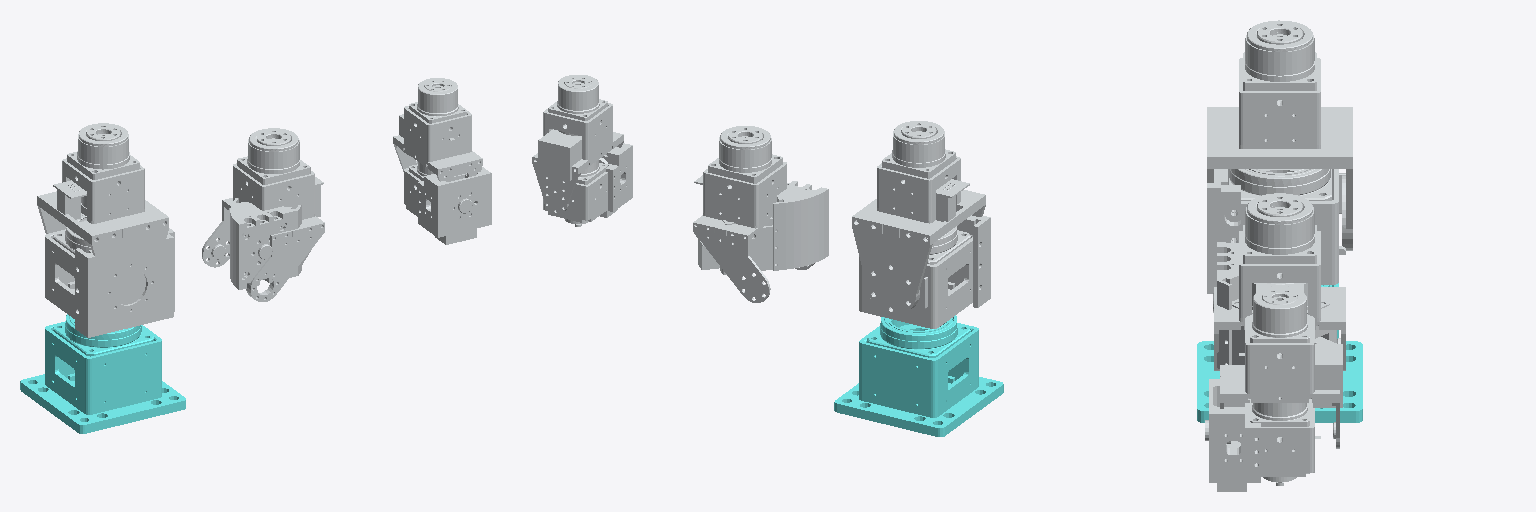
URDF robot description (bluearm_urdf_3):
<?xml version="1.0" encoding="utf-8"?>
<!-- This URDF was automatically created by SolidWorks to URDF Exporter! Originally created by [author] ([email redacted]) 
     Commit Version: 1.5.1-0-g916b5db  Build Version: 1.5.7152.31018
     For more information, please see http://wiki.ros.org/sw_urdf_exporter -->
<robot
  name="bluearm_urdf_3">
  <link
    name="base_link">
    <inertial>
      <origin
        xyz="-1.2721E-09 -2.221E-09 0.029334"
        rpy="0 0 0" />
      <mass
        value="0.80823" />
      <inertia
        ixx="0.00092021"
        ixy="2.0871E-10"
        ixz="-1.3863E-11"
        iyy="0.00088788"
        iyz="-1.2165E-11"
        izz="0.001593" />
    </inertial>
    <visual>
      <origin
        xyz="0 0 0"
        rpy="0 0 0" />
      <geometry>
        <mesh
          filename="package://bluearm_urdf_3/meshes/base_link.STL" />
      </geometry>
      <material
        name="">
        <color
          rgba="0.50196 1 1 1" />
      </material>
    </visual>
    <collision>
      <origin
        xyz="0 0 0"
        rpy="0 0 0" />
      <geometry>
        <mesh
          filename="package://bluearm_urdf_3/meshes/base_link.STL" />
      </geometry>
    </collision>
  </link>
  <link
    name="link_1">
    <inertial>
      <origin
        xyz="0.0013724819847024 0.00105856120896306 -0.0137822751691176"
        rpy="0 0 0" />
      <mass
        value="0.842297822851205" />
      <inertia
        ixx="0.00076340953424039"
        ixy="-3.51636077803791E-06"
        ixz="-3.95975667675045E-06"
        iyy="0.00121976980344189"
        iyz="1.36722548032234E-06"
        izz="0.00102227900722713" />
    </inertial>
    <visual>
      <origin
        xyz="0 0 0"
        rpy="0 0 0" />
      <geometry>
        <mesh
          filename="package://bluearm_urdf_3/meshes/link_1.STL" />
      </geometry>
      <material
        name="">
        <color
          rgba="0.898039215686275 0.917647058823529 0.929411764705882 1" />
      </material>
    </visual>
    <collision>
      <origin
        xyz="0 0 0"
        rpy="0 0 0" />
      <geometry>
        <mesh
          filename="package://bluearm_urdf_3/meshes/link_1.STL" />
      </geometry>
    </collision>
  </link>
  <joint
    name="joint_1"
    type="revolute">
    <origin
      xyz="0 0 0.14"
      rpy="0 0 0" />
    <parent
      link="base_link" />
    <child
      link="link_1" />
    <axis
      xyz="0 0 1" />
    <limit
      lower="0"
      upper="0"
      effort="0"
      velocity="0" />
  </joint>
  <link
    name="link_2">
    <inertial>
      <origin
        xyz="0.0769223200130146 8.08732473817575E-05 -0.00042635625580266"
        rpy="0 0 0" />
      <mass
        value="0.745981126447571" />
      <inertia
        ixx="0.000520841610219072"
        ixy="-4.81334906961203E-06"
        ixz="-1.95626090273518E-06"
        iyy="0.00042477641414559"
        iyz="-5.52016092200821E-06"
        izz="0.000384489660316636" />
    </inertial>
    <visual>
      <origin
        xyz="0 0 0"
        rpy="0 0 0" />
      <geometry>
        <mesh
          filename="package://bluearm_urdf_3/meshes/link_2.STL" />
      </geometry>
      <material
        name="">
        <color
          rgba="0.898039215686275 0.917647058823529 0.929411764705882 1" />
      </material>
    </visual>
    <collision>
      <origin
        xyz="0 0 0"
        rpy="0 0 0" />
      <geometry>
        <mesh
          filename="package://bluearm_urdf_3/meshes/link_2.STL" />
      </geometry>
    </collision>
  </link>
  <joint
    name="joint_2"
    type="revolute">
    <origin
      xyz="0 0 0"
      rpy="0 0 0" />
    <parent
      link="link_1" />
    <child
      link="link_2" />
    <axis
      xyz="0 -1 0" />
    <limit
      lower="0"
      upper="0"
      effort="0"
      velocity="0" />
  </joint>
  <link
    name="link_3">
    <inertial>
      <origin
        xyz="-0.0114331813251084 -0.000457582008541844 -0.0216566472730735"
        rpy="0 0 0" />
      <mass
        value="0.804459827803754" />
      <inertia
        ixx="0.000394716139862203"
        ixy="1.20034101751916E-06"
        ixz="-1.15155911130661E-05"
        iyy="0.000369176277421544"
        iyz="-1.52204783481967E-06"
        izz="0.000335294348916886" />
    </inertial>
    <visual>
      <origin
        xyz="0 0 0"
        rpy="0 0 0" />
      <geometry>
        <mesh
          filename="package://bluearm_urdf_3/meshes/link_3.STL" />
      </geometry>
      <material
        name="">
        <color
          rgba="0.898039215686275 0.917647058823529 0.929411764705882 1" />
      </material>
    </visual>
    <collision>
      <origin
        xyz="0 0 0"
        rpy="0 0 0" />
      <geometry>
        <mesh
          filename="package://bluearm_urdf_3/meshes/link_3.STL" />
      </geometry>
    </collision>
  </link>
  <joint
    name="joint_3"
    type="revolute">
    <origin
      xyz="0.19 0 0"
      rpy="0 0 0" />
    <parent
      link="link_2" />
    <child
      link="link_3" />
    <axis
      xyz="-1 0 0" />
    <limit
      lower="0"
      upper="0"
      effort="0"
      velocity="0" />
  </joint>
  <link
    name="link_4">
    <inertial>
      <origin
        xyz="0.0769734778463645 0.000934629244450365 0.0356212264841299"
        rpy="0 0 0" />
      <mass
        value="0.566230423072006" />
      <inertia
        ixx="0.000323477443788715"
        ixy="1.29185501358438E-06"
        ixz="-1.18136439524261E-05"
        iyy="0.000225583796578213"
        iyz="-6.10063744425435E-06"
        izz="0.000221671905453137" />
    </inertial>
    <visual>
      <origin
        xyz="0 0 0"
        rpy="0 0 0" />
      <geometry>
        <mesh
          filename="package://bluearm_urdf_3/meshes/link_4.STL" />
      </geometry>
      <material
        name="">
        <color
          rgba="0.898039215686275 0.917647058823529 0.929411764705882 1" />
      </material>
    </visual>
    <collision>
      <origin
        xyz="0 0 0"
        rpy="0 0 0" />
      <geometry>
        <mesh
          filename="package://bluearm_urdf_3/meshes/link_4.STL" />
      </geometry>
    </collision>
  </link>
  <joint
    name="joint_4"
    type="revolute">
    <origin
      xyz="0 0 -0.0365"
      rpy="0 0 0" />
    <parent
      link="link_3" />
    <child
      link="link_4" />
    <axis
      xyz="0 1 0" />
    <limit
      lower="0"
      upper="0"
      effort="0"
      velocity="0" />
  </joint>
  <link
    name="link_5">
    <inertial>
      <origin
        xyz="-0.0148074583751761 0.00213542128687548 2.18169794868883E-07"
        rpy="0 0 0" />
      <mass
        value="0.462017126683371" />
      <inertia
        ixx="0.000177893444569323"
        ixy="1.32666352831544E-05"
        ixz="-3.05686863907704E-07"
        iyy="0.000225592333679048"
        iyz="1.12464809894113E-09"
        izz="0.000163107825386613" />
    </inertial>
    <visual>
      <origin
        xyz="0 0 0"
        rpy="0 0 0" />
      <geometry>
        <mesh
          filename="package://bluearm_urdf_3/meshes/link_5.STL" />
      </geometry>
      <material
        name="">
        <color
          rgba="0.898039215686275 0.917647058823529 0.929411764705882 1" />
      </material>
    </visual>
    <collision>
      <origin
        xyz="0 0 0"
        rpy="0 0 0" />
      <geometry>
        <mesh
          filename="package://bluearm_urdf_3/meshes/link_5.STL" />
      </geometry>
    </collision>
  </link>
  <joint
    name="joint_5"
    type="revolute">
    <origin
      xyz="0.183 0 0.0365"
      rpy="0 0 0" />
    <parent
      link="link_4" />
    <child
      link="link_5" />
    <axis
      xyz="-1 0 0" />
    <limit
      lower="0"
      upper="0"
      effort="0"
      velocity="0" />
  </joint>
  <link
    name="link_6">
    <inertial>
      <origin
        xyz="0.057311 -0.0040732 2.7725E-07"
        rpy="0 0 0" />
      <mass
        value="0.41677" />
      <inertia
        ixx="0.00018847"
        ixy="-1.4409E-05"
        ixz="-1.3757E-09"
        iyy="0.0001068"
        iyz="-3.057E-07"
        izz="0.00014801" />
    </inertial>
    <visual>
      <origin
        xyz="0 0 0"
        rpy="0 0 0" />
      <geometry>
        <mesh
          filename="package://bluearm_urdf_3/meshes/link_6.STL" />
      </geometry>
      <material
        name="">
        <color
          rgba="0.89804 0.91765 0.92941 1" />
      </material>
    </visual>
    <collision>
      <origin
        xyz="0 0 0"
        rpy="0 0 0" />
      <geometry>
        <mesh
          filename="package://bluearm_urdf_3/meshes/link_6.STL" />
      </geometry>
    </collision>
  </link>
  <joint
    name="joint_6"
    type="revolute">
    <origin
      xyz="0 0 0"
      rpy="0 0 0" />
    <parent
      link="link_5" />
    <child
      link="link_6" />
    <axis
      xyz="0 1 0" />
    <limit
      lower="0"
      upper="0"
      effort="0"
      velocity="0" />
  </joint>
  <link
    name="link_7">
    <inertial>
      <origin
        xyz="-0.35508 -0.0025947 -0.026841"
        rpy="0 0 0" />
      <mass
        value="6.3956" />
      <inertia
        ixx="0.01645"
        ixy="-0.0011027"
        ixz="-0.017005"
        iyy="0.15129"
        iyz="0.00032406"
        izz="0.14249" />
    </inertial>
    <visual>
      <origin
        xyz="0 0 0"
        rpy="0 0 0" />
      <geometry>
        <mesh
          filename="package://bluearm_urdf_3/meshes/link_7.STL" />
      </geometry>
      <material
        name="">
        <color
          rgba="1 1 1 1" />
      </material>
    </visual>
    <collision>
      <origin
        xyz="0 0 0"
        rpy="0 0 0" />
      <geometry>
        <mesh
          filename="package://bluearm_urdf_3/meshes/link_7.STL" />
      </geometry>
    </collision>
  </link>
  <joint
    name="joint_7"
    type="revolute">
    <origin
      xyz="0.107 0 0"
      rpy="0 0 0" />
    <parent
      link="link_6" />
    <child
      link="link_7" />
    <axis
      xyz="-1 0 0" />
    <limit
      lower="0"
      upper="0"
      effort="0"
      velocity="0" />
  </joint>
</robot>

--- Facts derived from the render (not from the file) ---
The picture shows the robot from 3 angles, left to right: view 1: azimuth 30°, elevation 25°; view 2: azimuth 150°, elevation 25°; view 3: azimuth 270°, elevation 25°; orthographic projection.
Robot: bluearm_urdf_3 — 8 links, 7 joints (7 revolute); root link base_link; default pose: all joints at 0.
Links seen in each view (by area): view 1: link_2, base_link, link_4, link_1, link_6, link_5, link_3; view 2: link_2, base_link, link_4, link_6, link_1, link_3, link_5; view 3: link_2, link_6, link_4, link_5, link_1, base_link, link_3.
Link boxes in pixels (left/top/right/bottom): link_2: left=37, top=123, right=168, bottom=313; base_link: left=20, top=314, right=185, bottom=433; link_4: left=202, top=128, right=324, bottom=301; link_1: left=45, top=213, right=174, bottom=337; link_6: left=393, top=78, right=482, bottom=209; link_5: left=404, top=162, right=491, bottom=244; link_3: left=230, top=198, right=310, bottom=289; link_2: left=852, top=121, right=985, bottom=314; base_link: left=834, top=315, right=1003, bottom=436; link_4: left=693, top=126, right=814, bottom=302; link_6: left=532, top=75, right=623, bottom=213; link_1: left=859, top=215, right=990, bottom=328; link_3: left=694, top=181, right=828, bottom=274; link_5: left=543, top=143, right=632, bottom=226; link_2: left=1207, top=20, right=1352, bottom=250; link_6: left=1220, top=286, right=1342, bottom=448; link_4: left=1214, top=193, right=1345, bottom=370; link_5: left=1205, top=379, right=1320, bottom=491; link_1: left=1207, top=169, right=1345, bottom=293; base_link: left=1197, top=283, right=1362, bottom=422; link_3: left=1213, top=242, right=1336, bottom=368.
Bounding box of the posed robot: 0.463 × 0.12 × 0.2845 m (x, y, z).
7 mesh visuals loaded from 8 distinct referenced files (7 binary STL); not drawn: 1 (file found but could not be loaded).